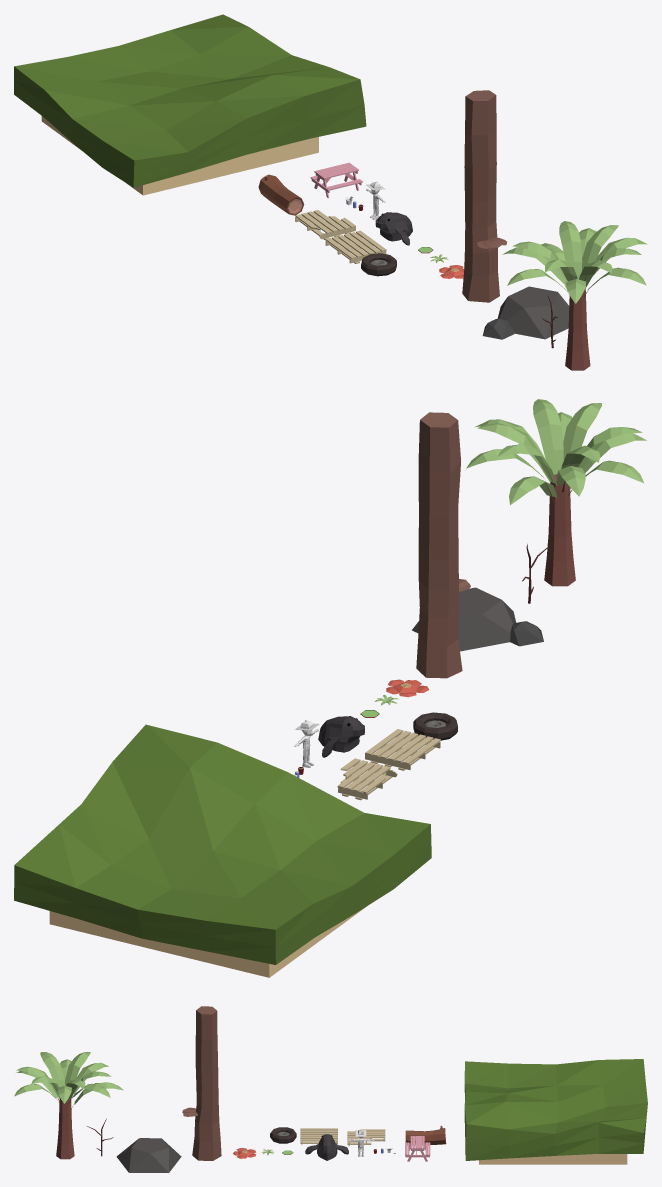
Rendered from Capstone Master File.fbx.
3 renders of one model, top to bottom at view 1: azimuth 30°, elevation 25°; view 2: azimuth 150°, elevation 25°; view 3: azimuth 270°, elevation 25°, orthographic. The views are drawn at different scales.
Parts seen in each view (by area): view 1: Cube, bigTree, Palm, ROCK.001, Palette, Palette Broken, Log, Dugong, Table, Circle; view 2: Cube, bigTree, Palm, ROCK.001, Palette, Palette Broken, Dugong, Circle; view 3: Cube, bigTree, Palm, ROCK.001, Dugong, Table, Palette, Log, Palette Broken, Circle.
Boxes of the visible parts, x1,y1,x2,y2 form: Cube: (14, 14, 366, 195); bigTree: (462, 90, 499, 302); Palm: (502, 221, 647, 370); ROCK.001: (497, 286, 569, 339); Palette: (325, 230, 386, 263); Palette Broken: (295, 210, 355, 240); Log: (258, 174, 304, 215); Dugong: (375, 212, 412, 245); Table: (310, 162, 362, 198); Circle: (361, 253, 396, 276); Cube: (14, 724, 431, 977); bigTree: (416, 412, 462, 678); Palm: (466, 399, 646, 586); ROCK.001: (412, 587, 516, 651); Palette: (365, 729, 440, 770); Palette Broken: (337, 758, 397, 800); Dugong: (318, 716, 364, 757); Circle: (413, 712, 457, 740); Cube: (464, 1059, 647, 1164); bigTree: (192, 1006, 221, 1160); Palm: (14, 1052, 123, 1159); ROCK.001: (116, 1138, 181, 1172); Dugong: (305, 1134, 348, 1160); Table: (405, 1136, 430, 1161); Palette: (300, 1128, 337, 1144); Log: (405, 1125, 446, 1144); Palette Broken: (347, 1129, 385, 1146); Circle: (270, 1127, 296, 1143).
Size of the model in its own units: 1912 by 1584 by 5970.
